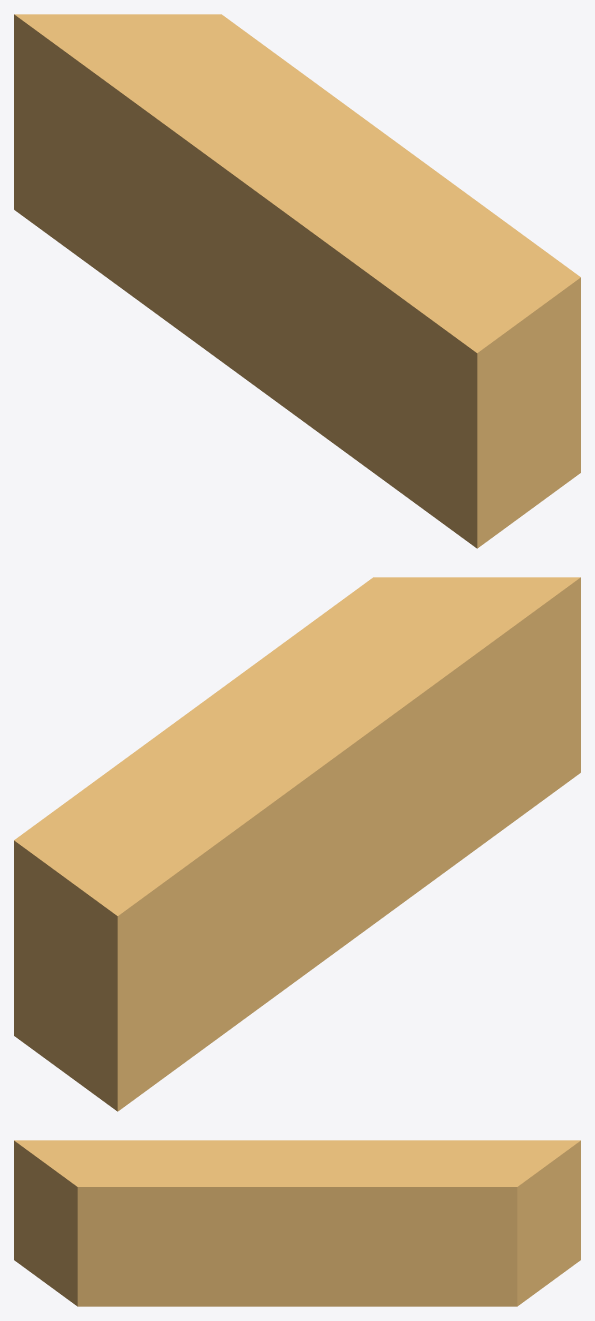
File: 1wall6.glb
3 renders of one model, top to bottom at view 1: azimuth 30°, elevation 25°; view 2: azimuth 150°, elevation 25°; view 3: azimuth 270°, elevation 25°, orthographic. The views are drawn at different scales.
Parts seen in each view (by area): view 1: VaromaCliff6; view 2: VaromaCliff6; view 3: VaromaCliff6.
Part boxes in pixels (box(x1,y1,x2,y2)): VaromaCliff6: box(14, 14, 580, 548); VaromaCliff6: box(14, 577, 580, 1111); VaromaCliff6: box(14, 1140, 580, 1306).
Bounding box in the file's own units: 0.25 × 0.3 × 1.29.
1 material, 1 textured.
